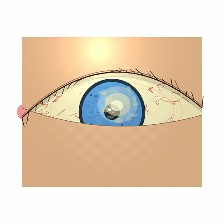corneal_ulcer: (97, 88, 138, 121)
